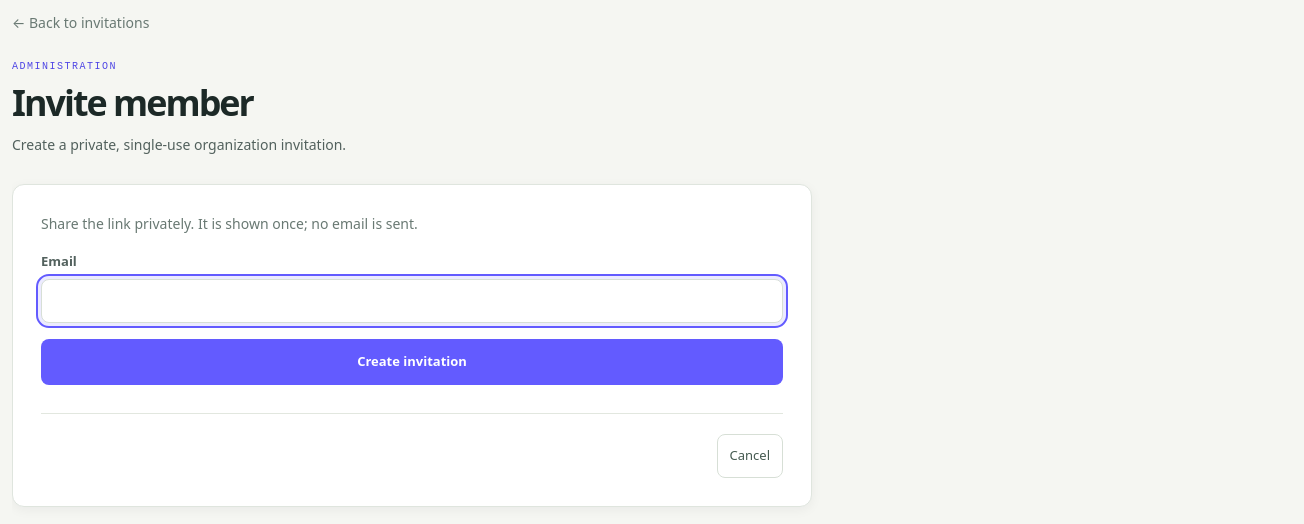
Test: does not create an invitation when cancelling the full-page form
Type "new@example.test" into the field labelled "Email" at coordinates (412, 301), box x1=41 y1=279 x2=783 y2=323
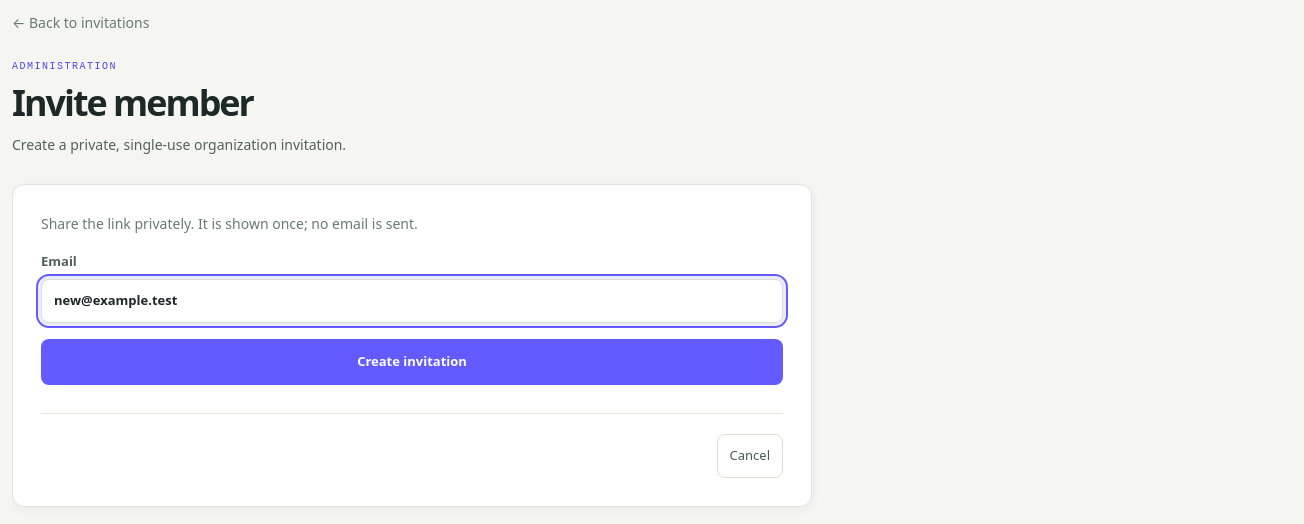
Click the button "Cancel" at coordinates (750, 456), box x1=716 y1=434 x2=783 y2=478
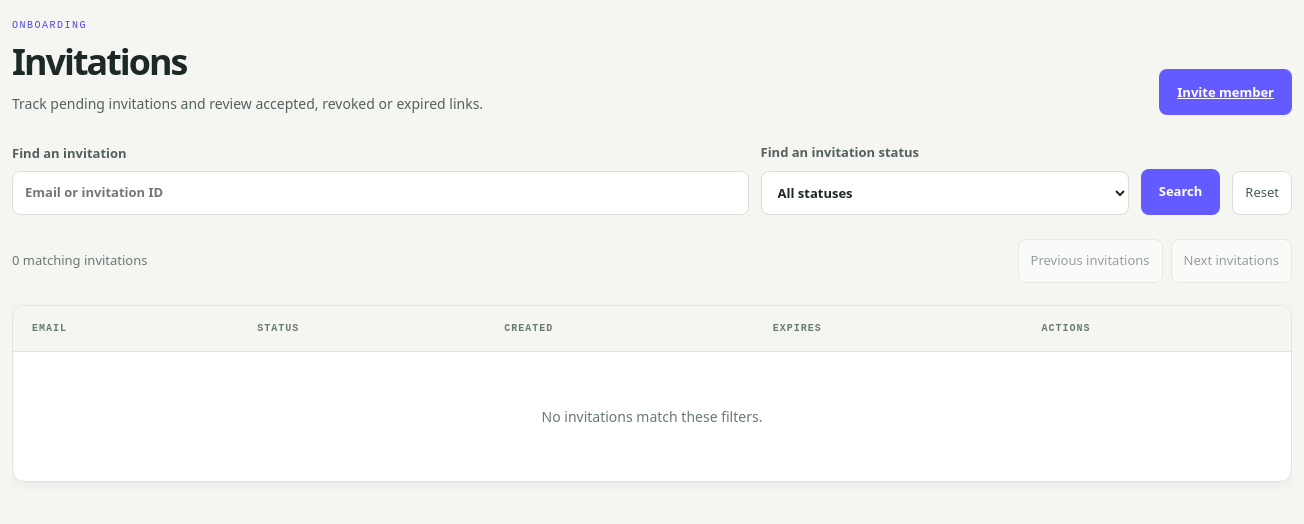
expect the heading "Invitations" is shown: met, box x1=12 y1=37 x2=186 y2=86
